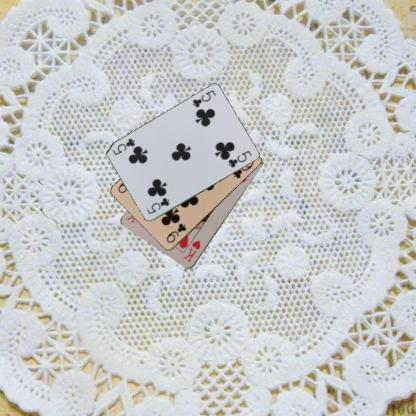5c: (190, 87, 218, 109), (144, 196, 170, 216)
9c: (163, 221, 188, 244)
Kh: (180, 238, 202, 264)
